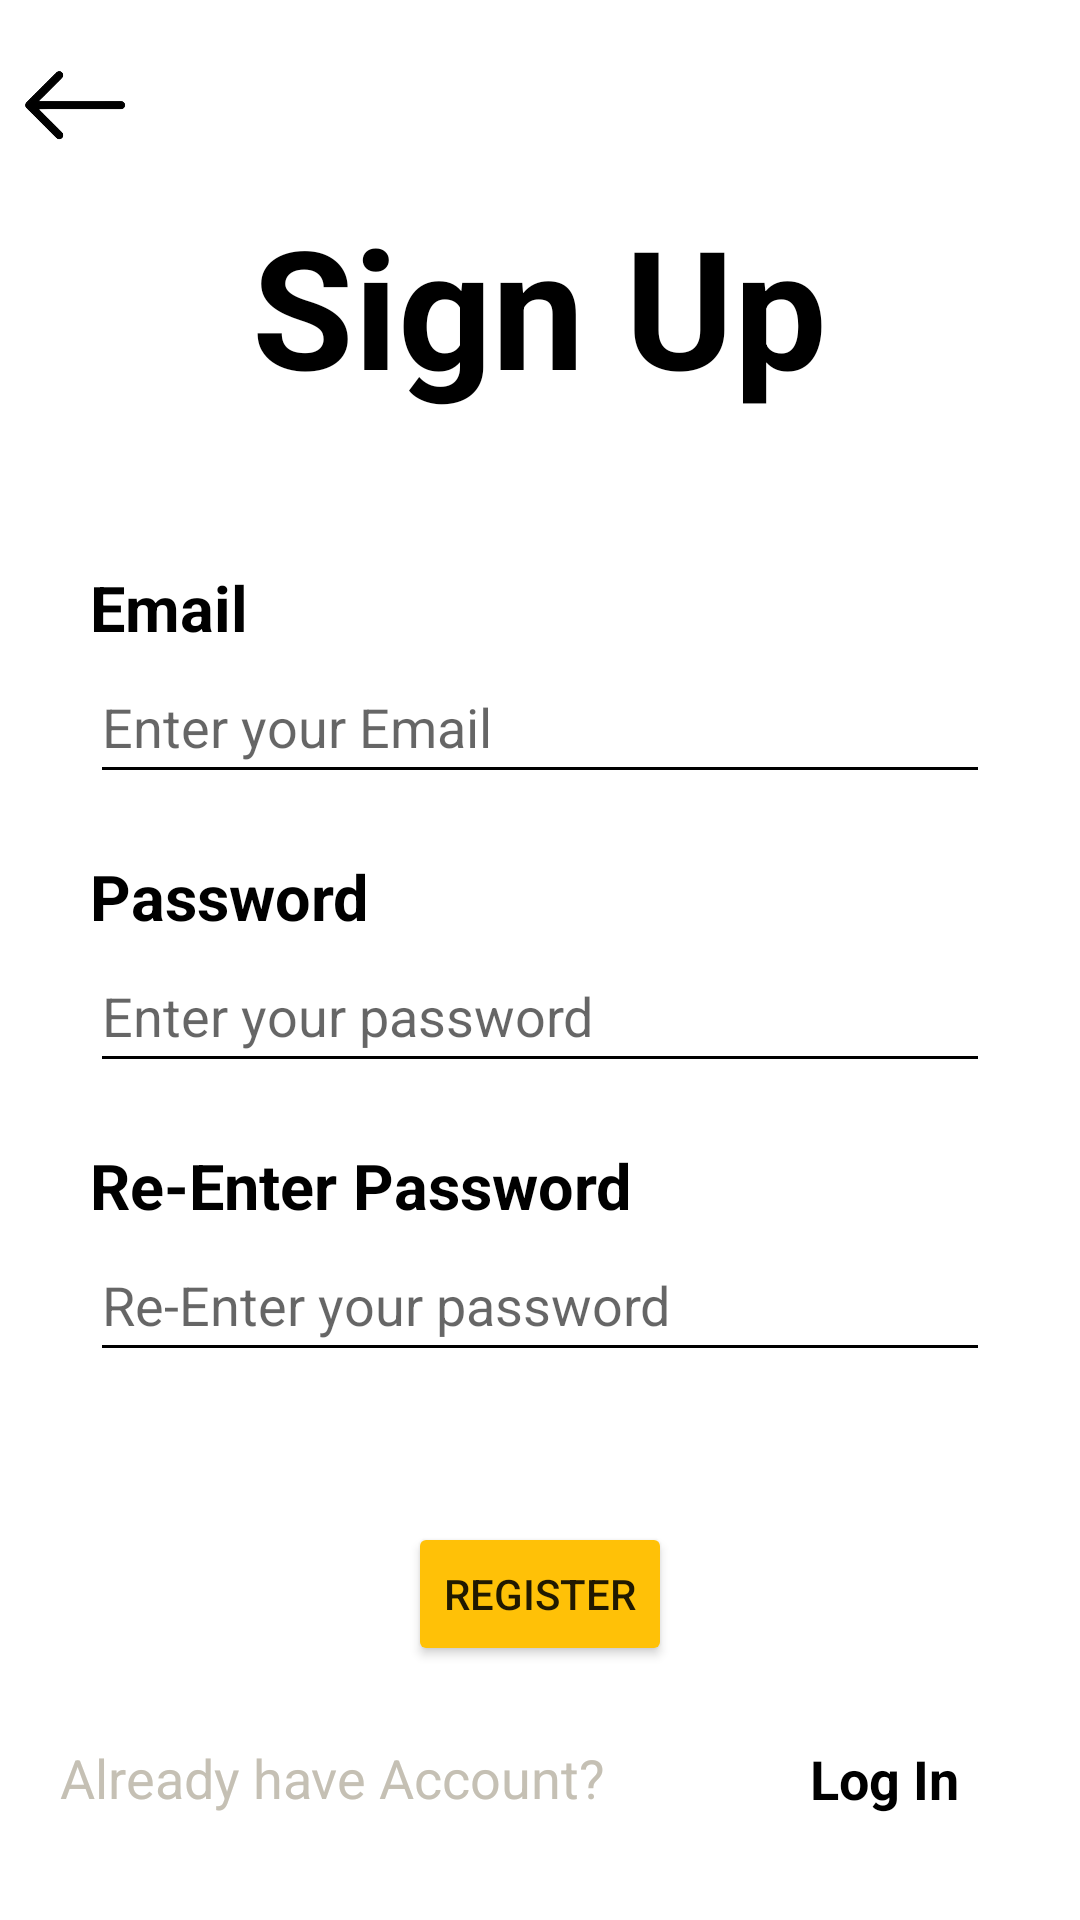

Where icons sit on this 1080 × 1920 app screen, as (x1,y1,x2,y2):
back: (25,71,125,139)
